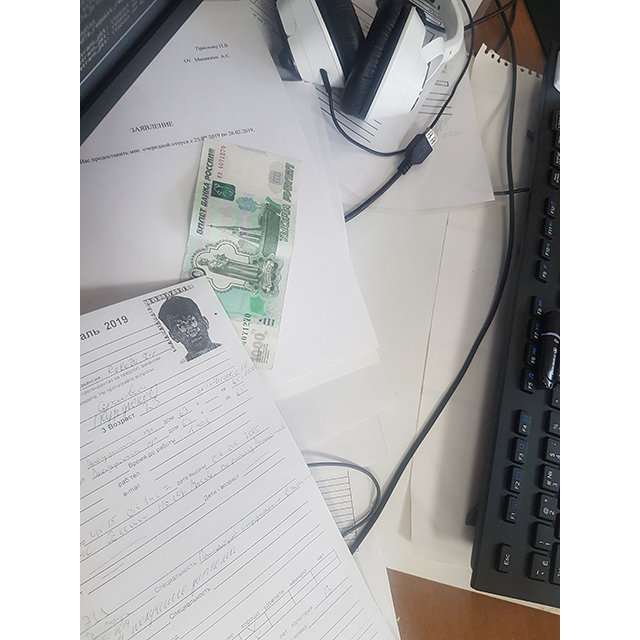banknotes: (181, 137, 297, 373)
